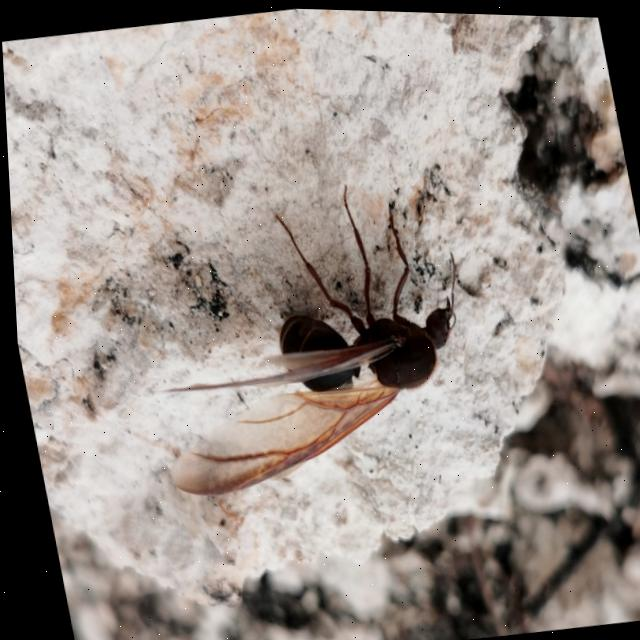Alive-Female-Alate: (117, 164, 491, 507)
